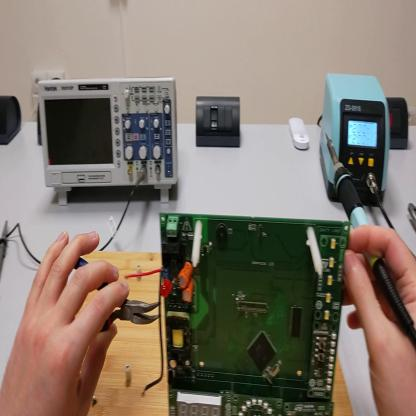hand: (2, 230, 129, 416), (342, 222, 416, 414)
low voltage board: (123, 212, 350, 416)
oscilloscope: (38, 76, 179, 207)
oscilloscope probe tip: (4, 220, 11, 270)
pliers: (76, 259, 163, 331)
socket: (388, 99, 410, 148), (2, 95, 23, 146), (39, 101, 44, 146)
welder probe tip: (327, 133, 414, 332)
welder station: (321, 77, 389, 205)
working area: (79, 255, 353, 415)
